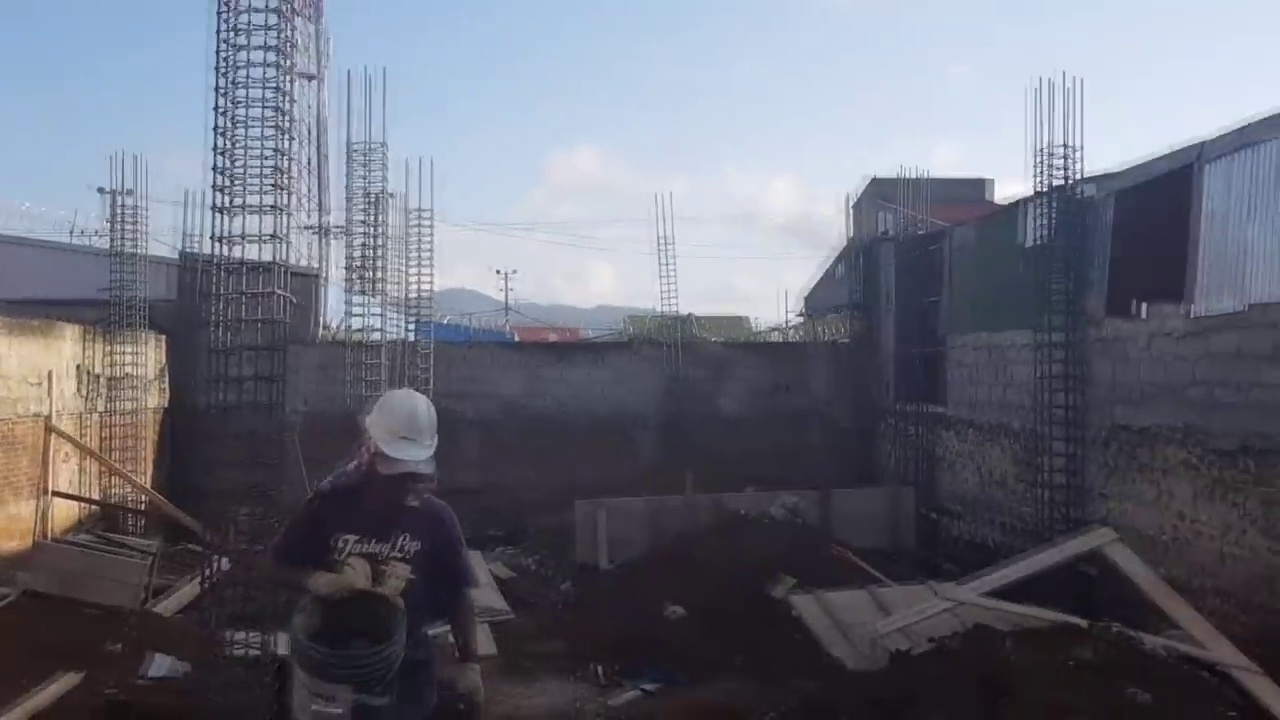helmet: (363, 384, 442, 470)
helmet-on: (345, 383, 444, 502)
person: (281, 369, 490, 691)
